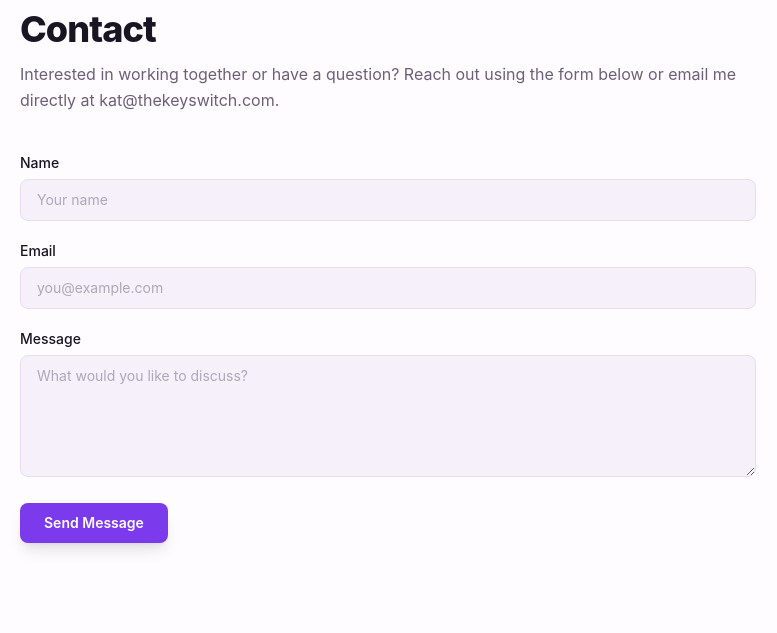
Test: ContactPage › shows success message on successful submit
In the field labelled "Name": coordinates (388, 200) [20,179,756,221], type "Test User"
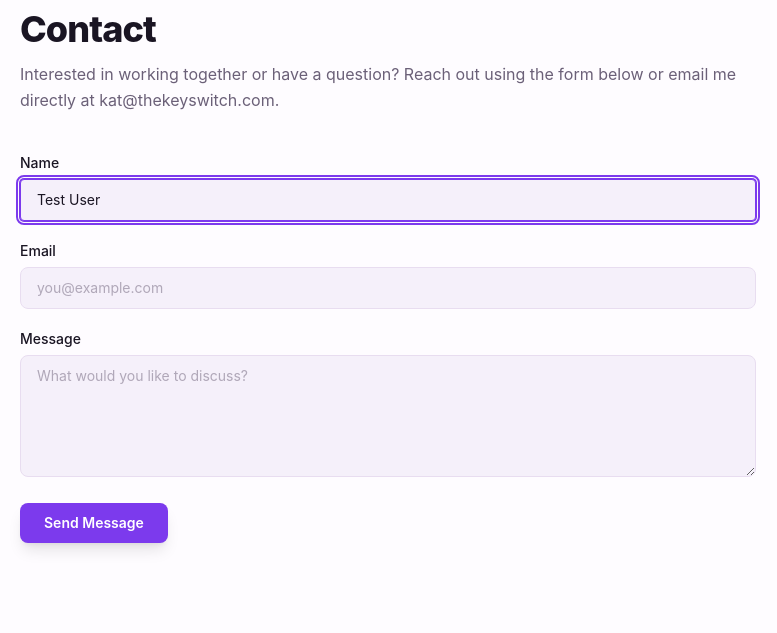
In the field labelled "Email": coordinates (388, 288) [20,267,756,309], type "test@example.com"
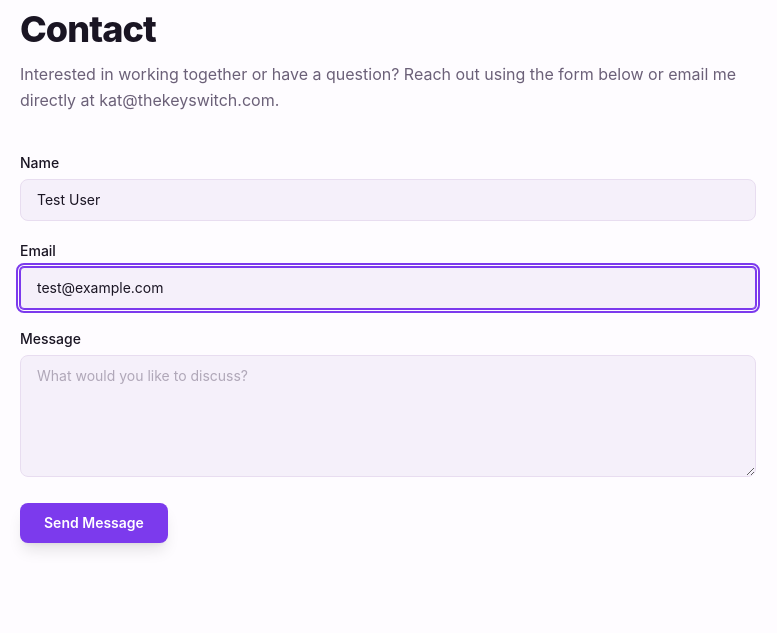
In the text box labelled "Message": coordinates (388, 416) [20,355,756,477], type "Hello there"
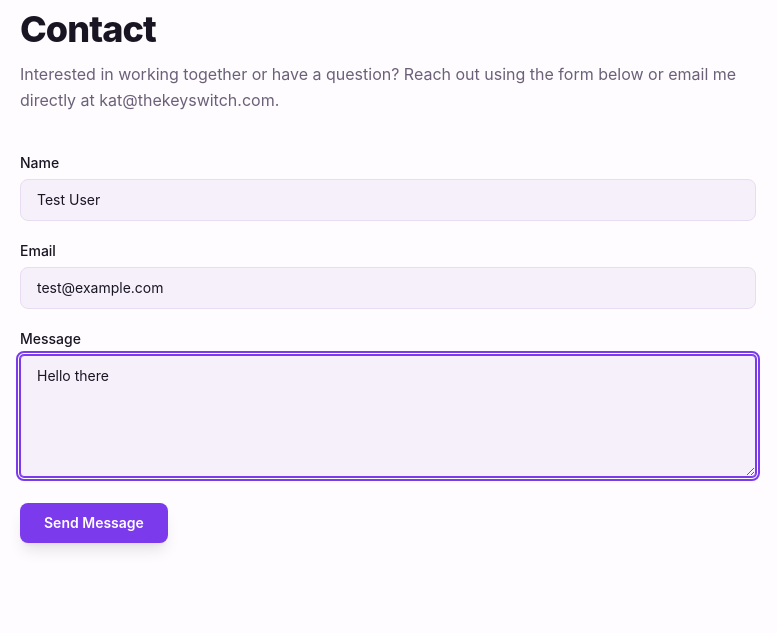
Click the button "Send Message": coordinates (94, 523) [20,503,168,543]
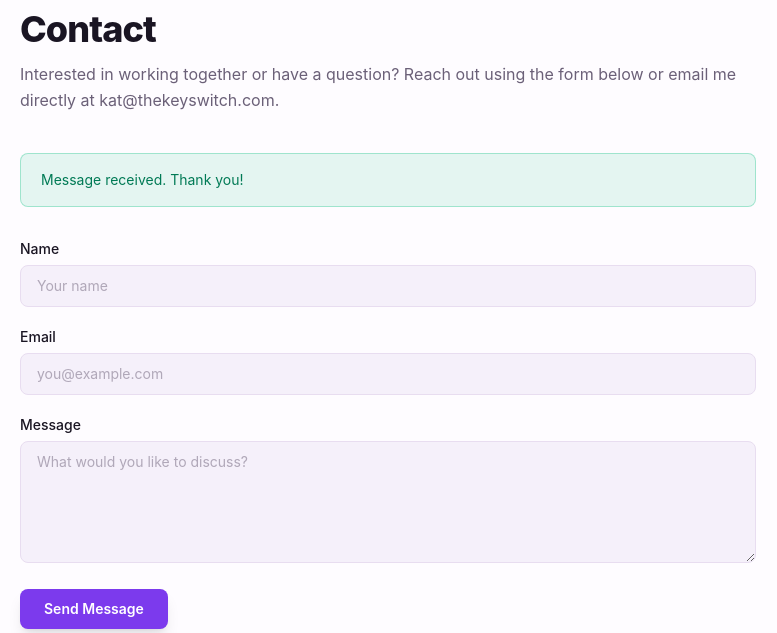
Check: the text "Message received. Thank you!" is shown, box [20,153,756,207]
